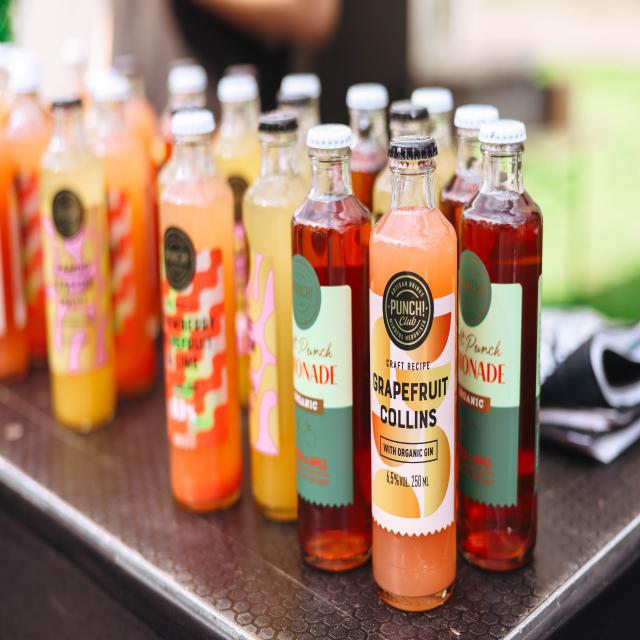Bottle: (370, 136, 457, 610), (458, 121, 542, 570), (293, 125, 371, 570), (160, 110, 242, 511), (243, 112, 307, 520), (40, 99, 116, 431), (92, 73, 159, 397), (214, 75, 261, 405), (115, 55, 165, 329), (6, 58, 50, 364), (440, 105, 499, 234), (0, 131, 29, 381), (114, 55, 164, 165), (412, 87, 456, 207), (347, 83, 388, 211), (277, 74, 321, 183), (160, 64, 207, 162), (60, 38, 90, 109), (390, 100, 428, 137), (0, 43, 15, 126)
